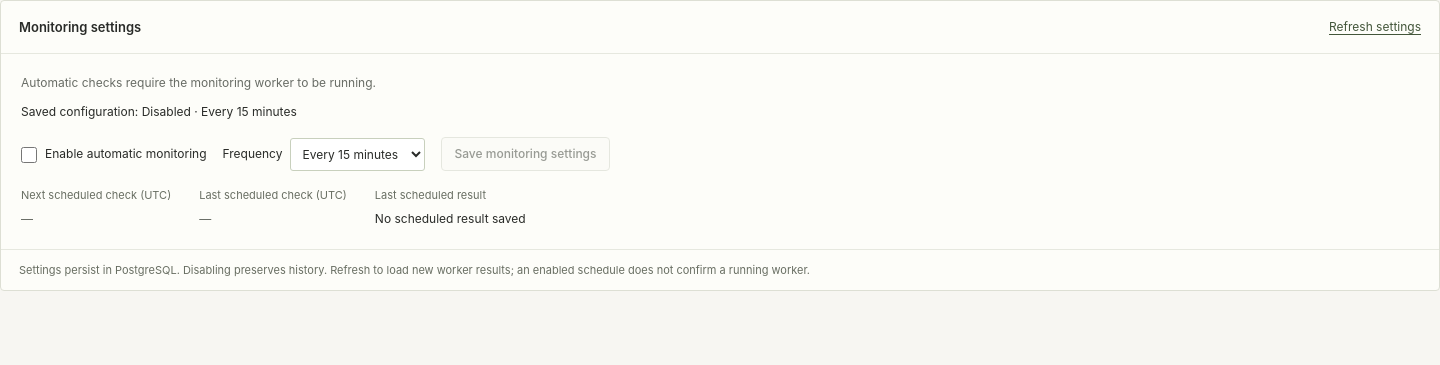
it: persisted monitoring settings › updates frequency and disables without deleting history
This screenshot has width=1440, height=365.
Expected: the text "Saved configuration: Disabled · Every 15 minutes" is shown, left=21, top=104, right=297, bottom=119
Select "Every 30 minutes" in the dropdown labelled "Frequency" at (358, 154), box left=290, top=138, right=426, bottom=171
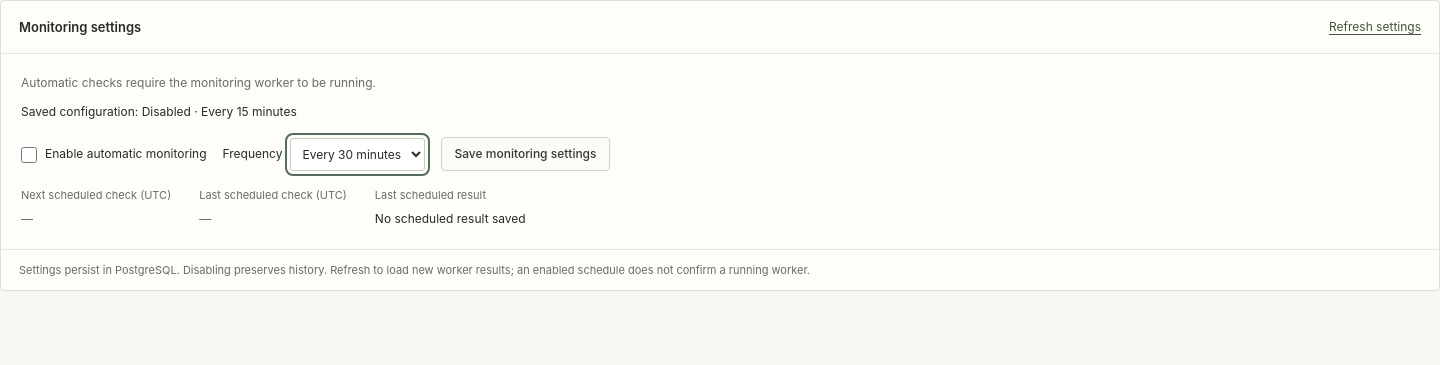
Click the button "Save monitoring settings" at (526, 154), box left=442, top=137, right=610, bottom=171
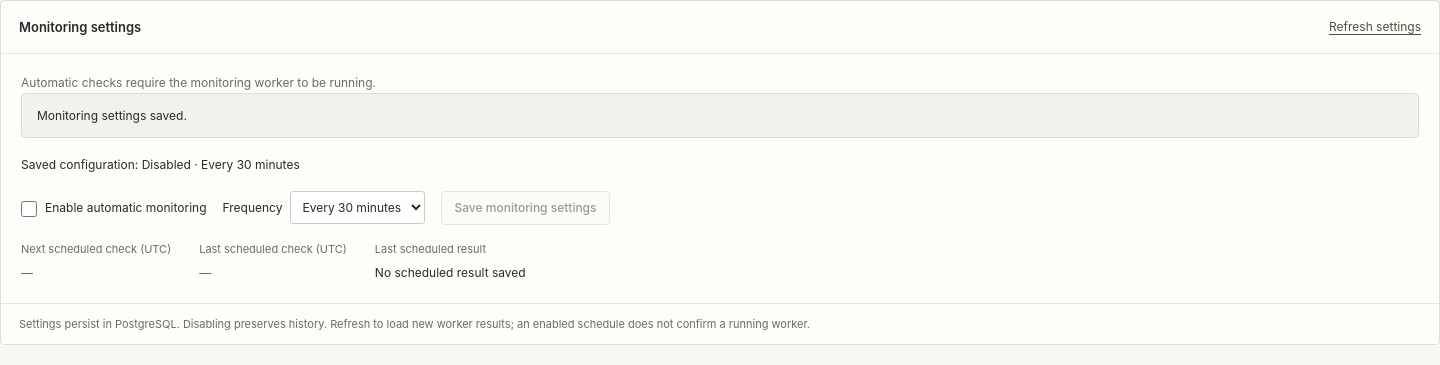
Result: the text "Saved configuration: Disabled · Every 30 minutes" is shown at left=21, top=157, right=300, bottom=172
Click the button "Refresh settings" at (1375, 27), box left=1329, top=14, right=1421, bottom=40
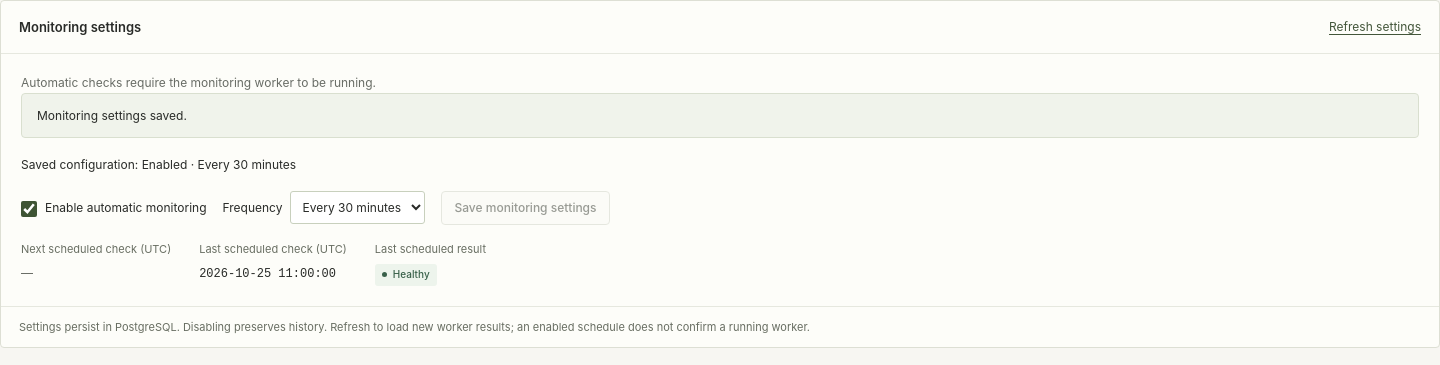
Result: the text "Saved configuration: Enabled · Every 30 minutes" is shown at left=21, top=157, right=296, bottom=172
Click the checkbox labelled "Enable automatic monitoring" at (29, 209), box left=21, top=201, right=37, bottom=217
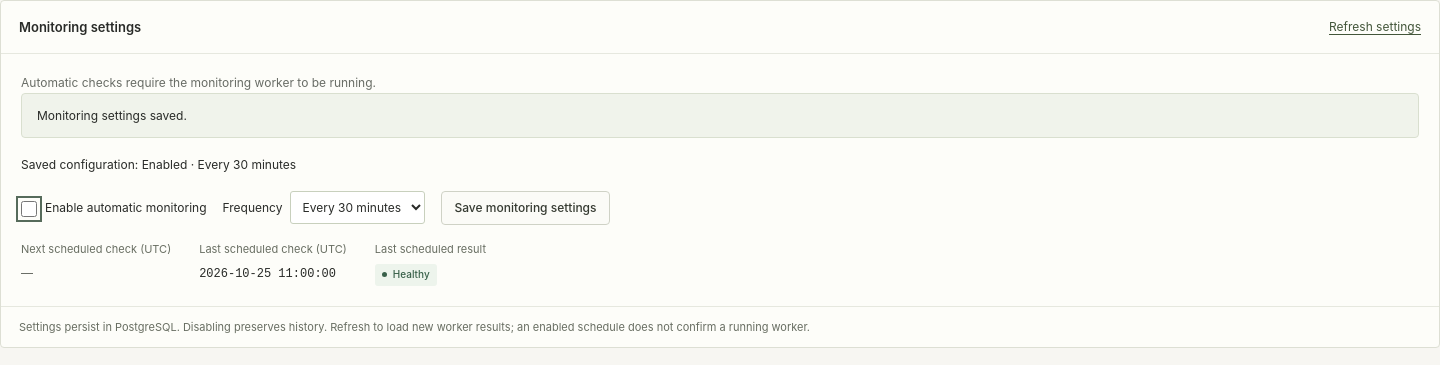
Click the button "Save monitoring settings" at (526, 208), box left=442, top=191, right=610, bottom=225
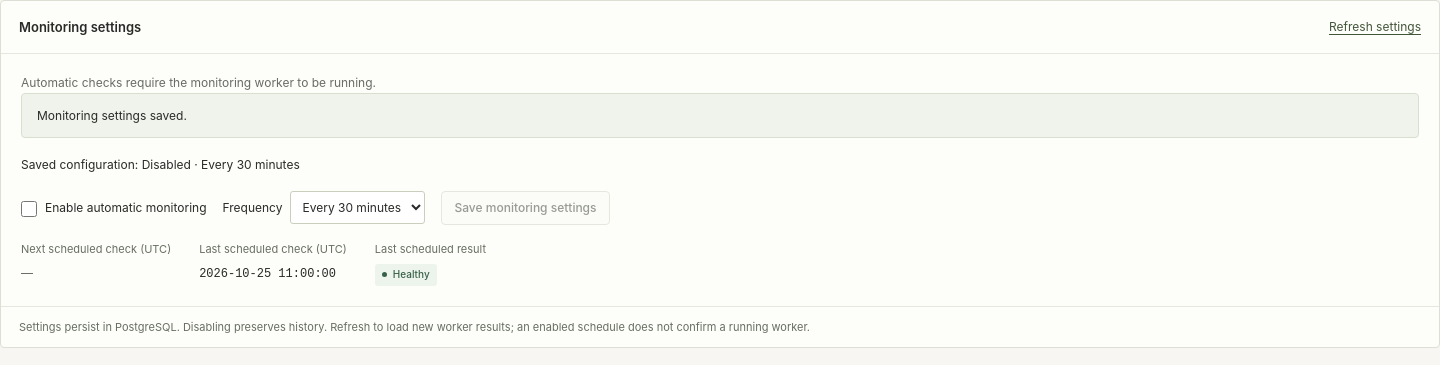
Result: the text "Healthy" is shown at left=375, top=264, right=437, bottom=286
Result: the text "Saved configuration: Disabled · Every 30 minutes" is shown at left=21, top=157, right=300, bottom=172
